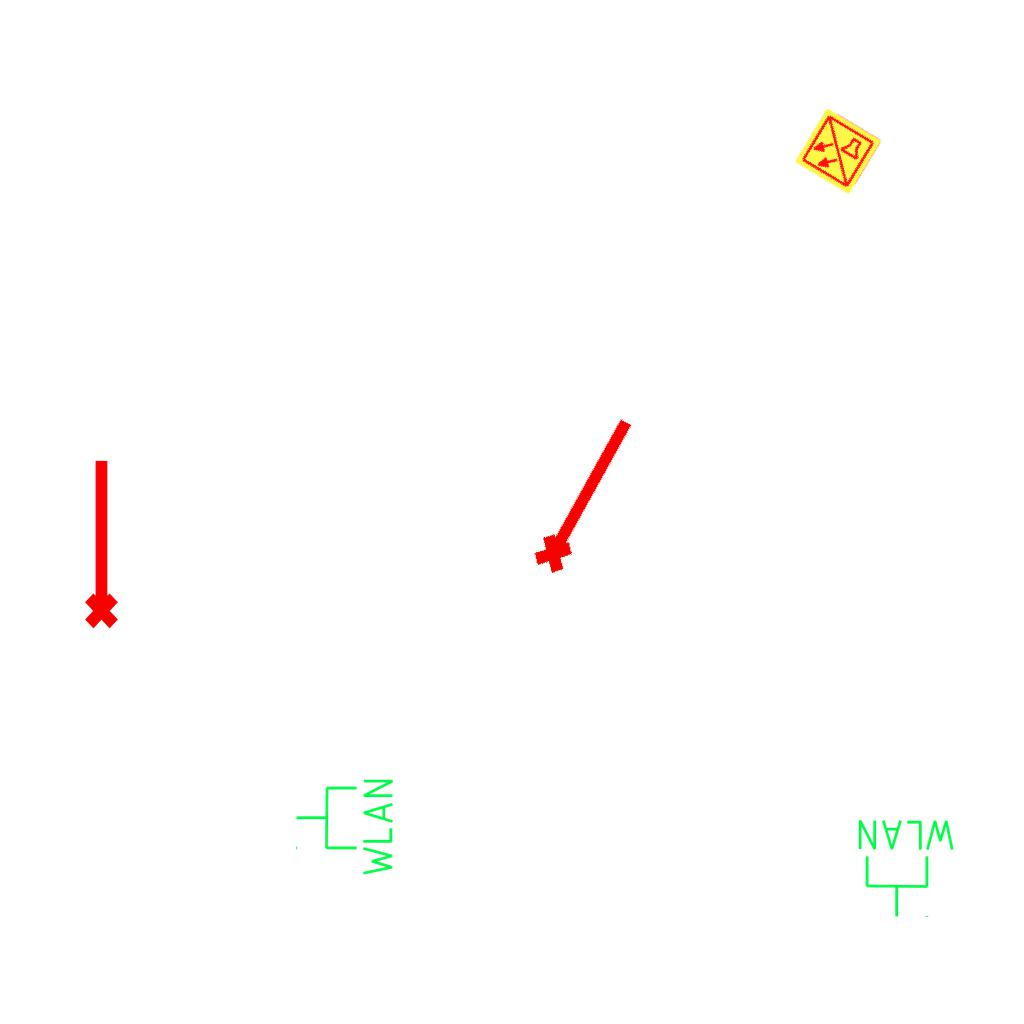ASR_Ansaugoeffnung: (521, 404, 647, 582), (76, 455, 122, 631)
OKW_Multisensormelder_(Kombination_optischer_Rauch-Kahlenmonoxid_Waerme-Melder): (792, 105, 884, 197)
WLAN: (293, 775, 397, 880), (854, 816, 959, 920)
